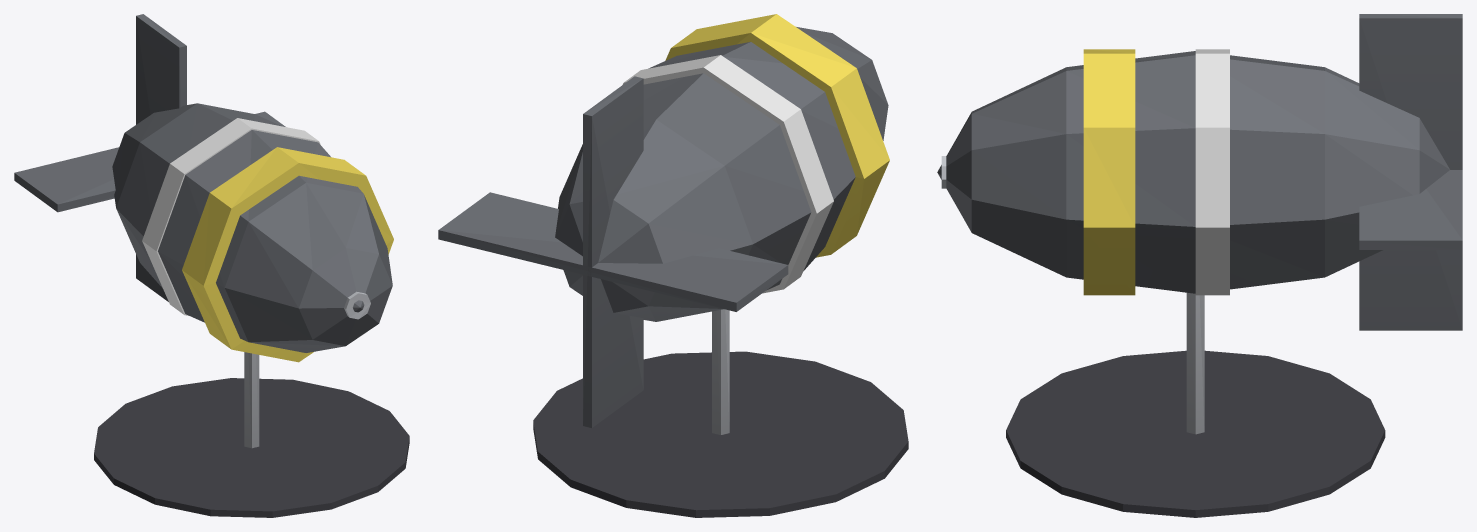
Rendered from Atomic Bomb.glb.
3 renders of one model, left to right at view 1: azimuth 30°, elevation 25°; view 2: azimuth 150°, elevation 25°; view 3: azimuth 270°, elevation 25°, orthographic. The views are drawn at different scales.
Visible parts, largest first — view 1: Body; view 2: Body; view 3: Body.
Boxes of the visible parts, left/top/right/bottom form: Body: left=14, top=14, right=409, bottom=517; Body: left=438, top=14, right=908, bottom=517; Body: left=937, top=14, right=1462, bottom=517.
Size of the model in its own units: 0.44 by 0.54 by 0.61.
